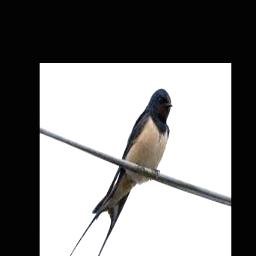Swallow: (69, 88, 173, 256)
